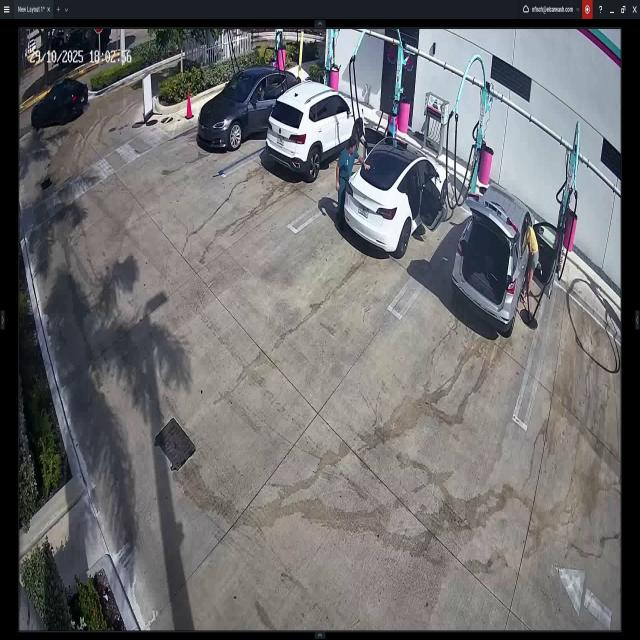Car: (447, 184, 561, 332), (340, 139, 448, 254), (264, 90, 362, 180), (200, 68, 299, 152), (30, 79, 87, 126)
